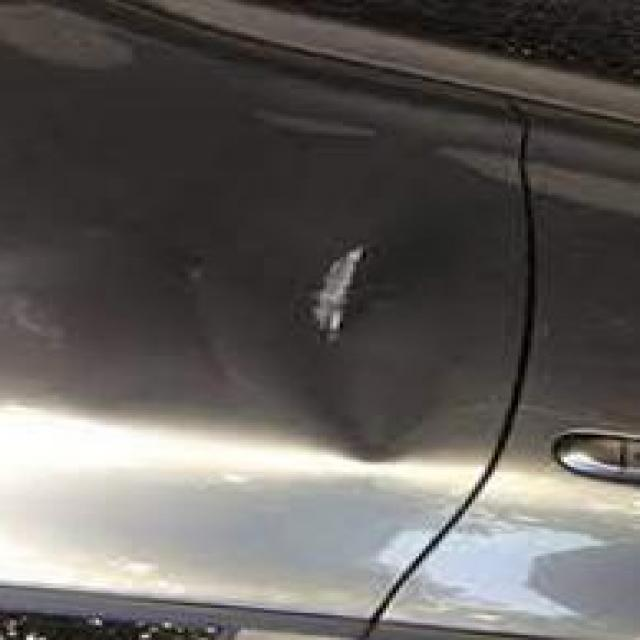dent: (206, 178, 533, 509)
